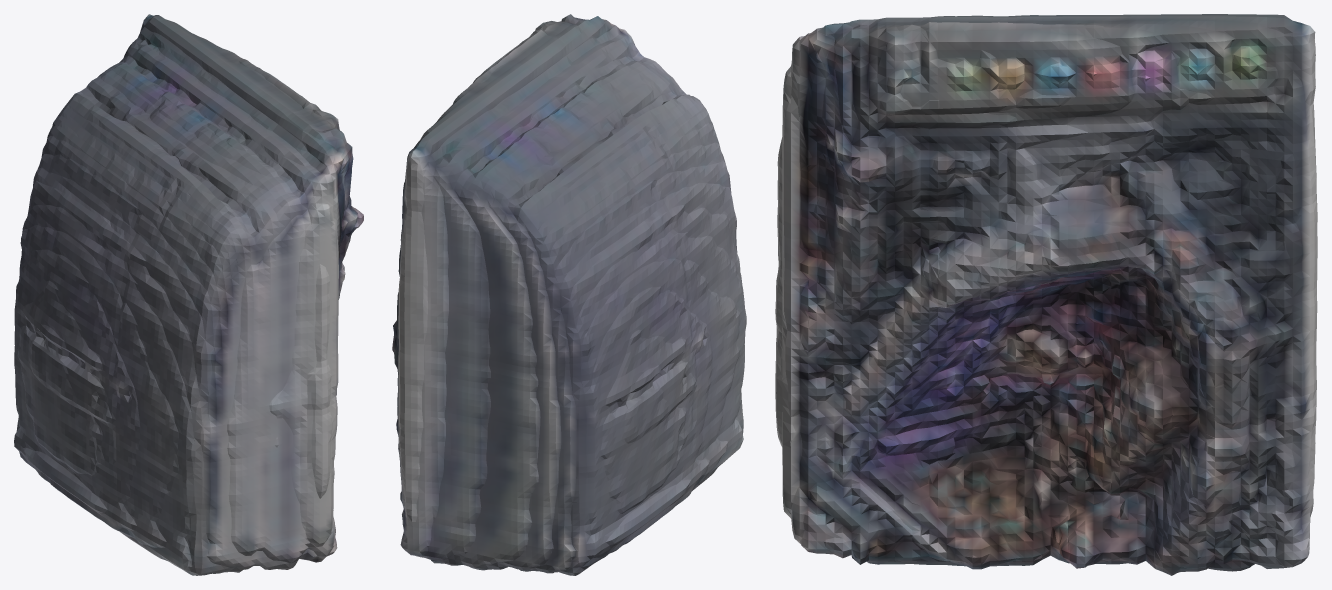
Rendered from building-archive.glb.
3 renders of one model, left to right at view 1: azimuth 30°, elevation 25°; view 2: azimuth 150°, elevation 25°; view 3: azimuth 270°, elevation 25°, orthographic. The views are drawn at different scales.
Parts seen in each view (by area): view 1: world; view 2: world; view 3: world.
Boxes of the visible parts, bbox=[...] form: world: bbox=[14, 14, 363, 575]; world: bbox=[392, 14, 746, 575]; world: bbox=[775, 14, 1317, 575].
Size of the model in its own units: 0.5233 by 0.9985 by 0.8585.
